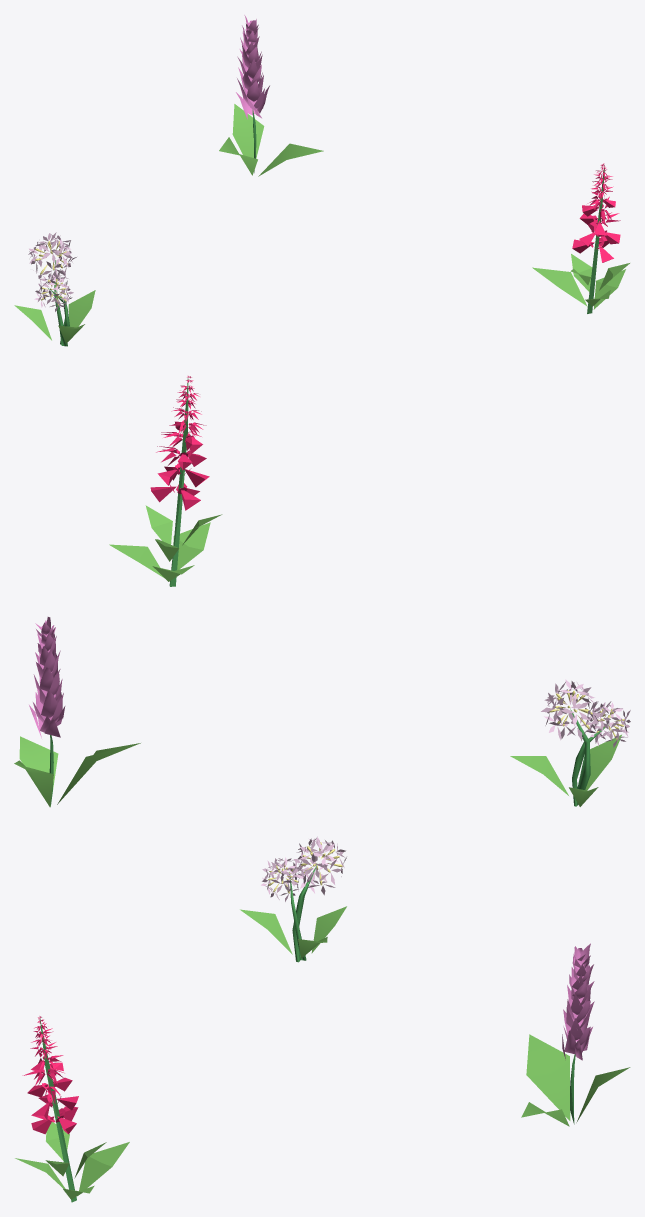
File: test fleur bosquet 2.fbx
3 renders of one model, top to bottom at view 1: azimuth 30°, elevation 25°; view 2: azimuth 150°, elevation 25°; view 3: azimuth 270°, elevation 25°, orthographic. The views are drawn at different scales.
Visible parts, largest first — view 1: Flower.007, Flower.002, Flower.003; view 2: Flower.007, Flower.003, Flower.002; view 3: Flower.002, Flower.007, Flower.003.
Boxes of the visible parts, box(x1,y1,x2,y2) form: Flower.007: box(532, 163, 629, 313); Flower.002: box(219, 15, 323, 176); Flower.003: box(14, 232, 95, 346); Flower.007: box(109, 376, 222, 586); Flower.003: box(510, 679, 630, 806); Flower.002: box(14, 617, 140, 807); Flower.002: box(521, 943, 630, 1126); Flower.007: box(15, 1016, 129, 1202); Flower.003: box(240, 837, 346, 962).
Size of the model in its own units: 1065 by 330 by 971.
